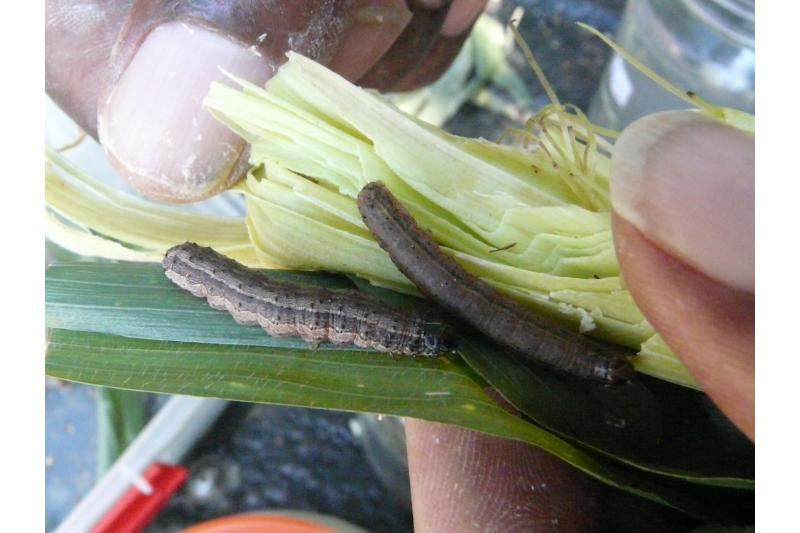fall-armyworm: (358, 182, 636, 386), (163, 243, 455, 360)
